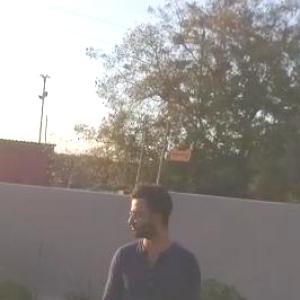follow: (94, 167, 208, 299)
